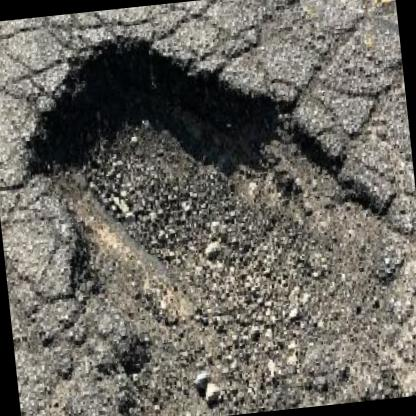pothole: (8, 5, 416, 416)
